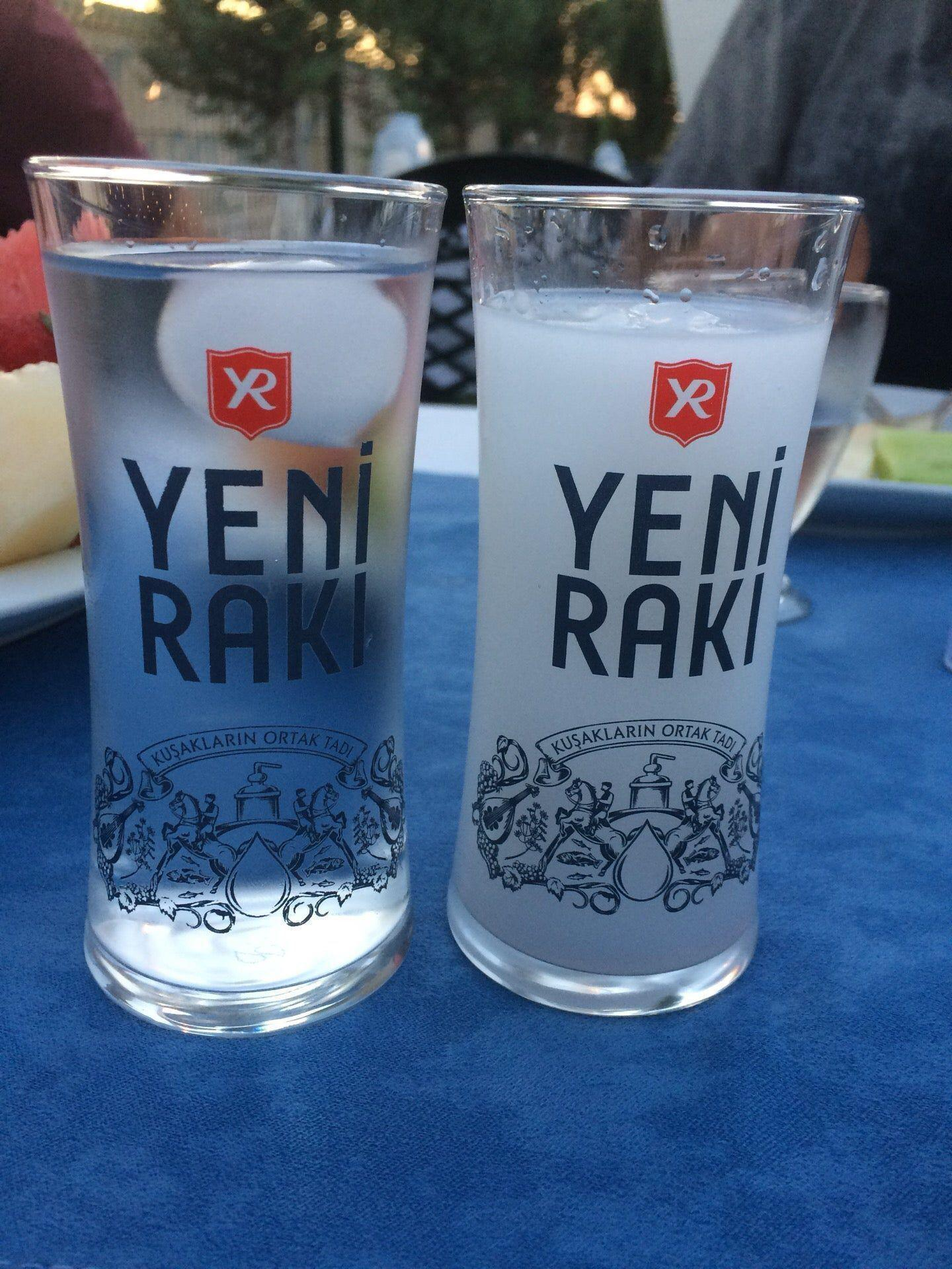glass-normal: (23, 153, 448, 1038), (441, 180, 864, 1019)
